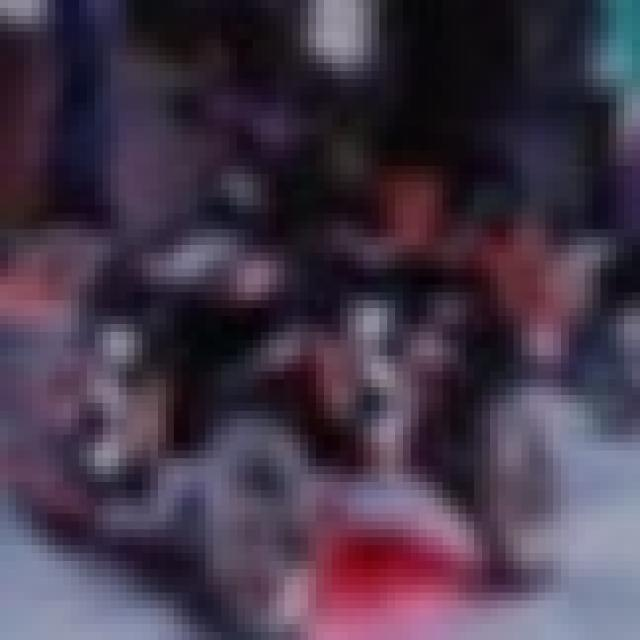R5: (316, 292, 450, 458), (47, 324, 166, 474)
